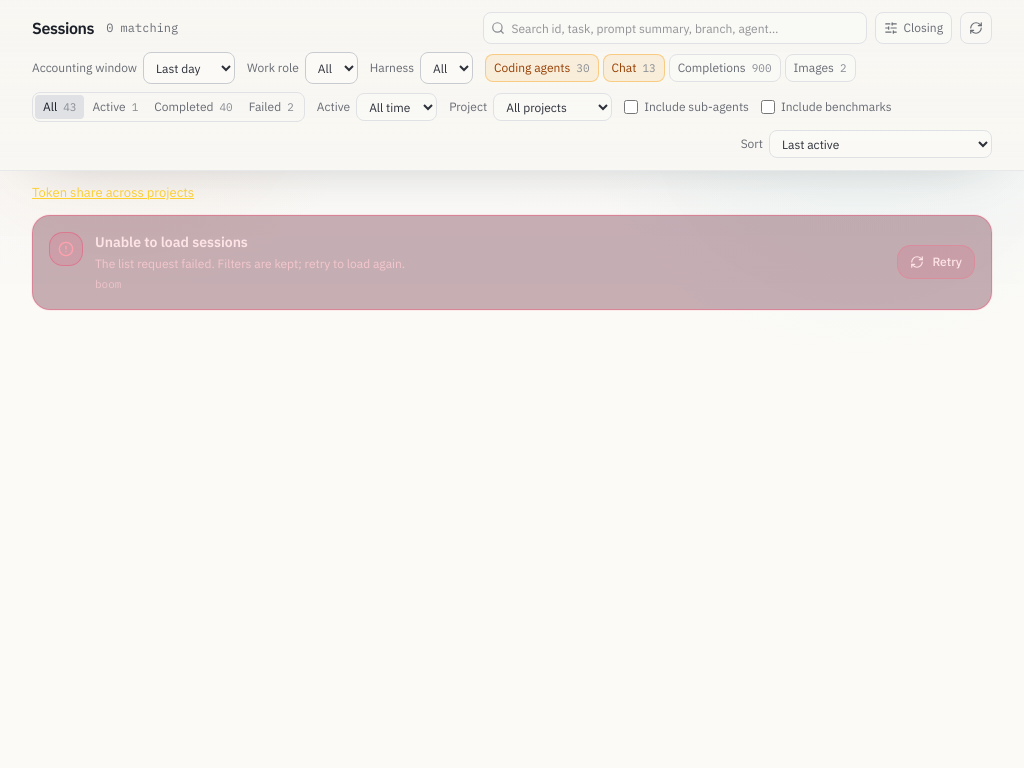
Test: SessionsPage › shows a retryable error
Expected: the text "Unable to load sessions" is shown, [95,233,248,251]
Click the button "Retry".
click(936, 262)  # box [897,245,975,279]
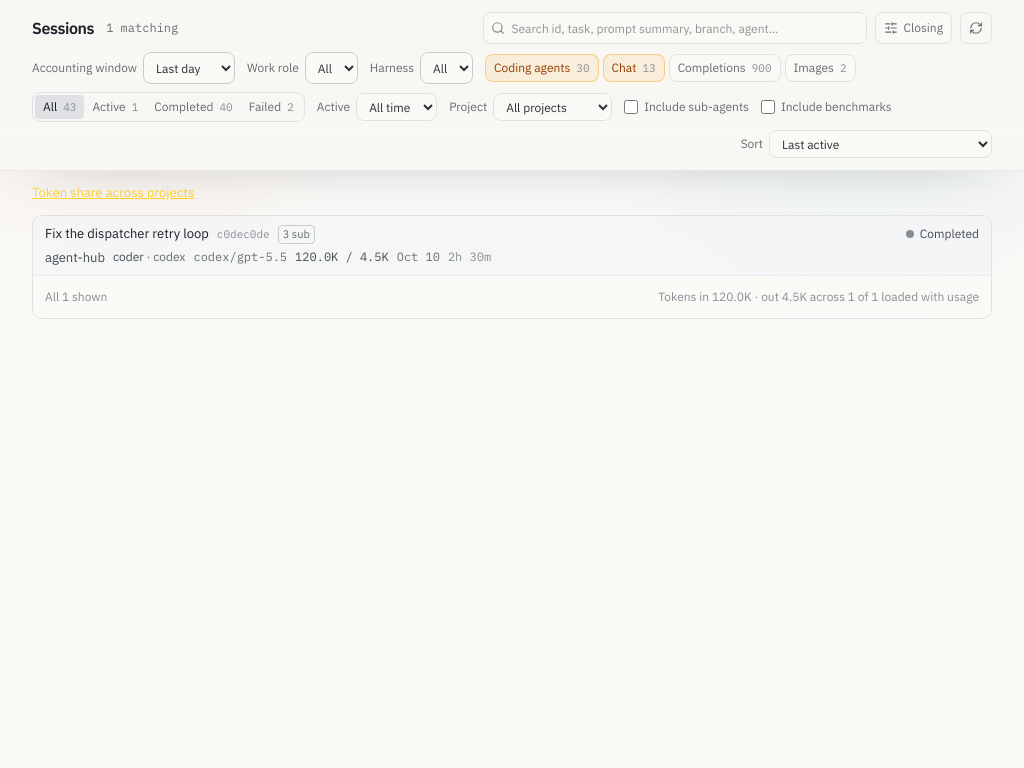
Now the text "Fix the dispatcher retry loop" is shown, box [45,224,209,244]
